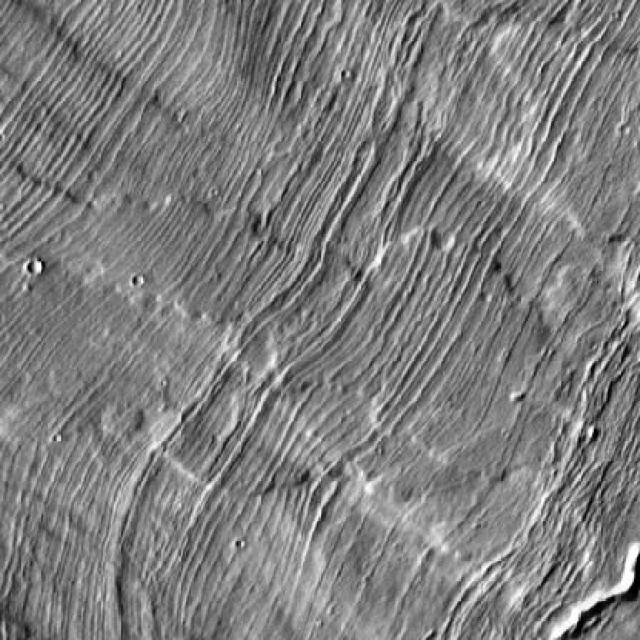crater: (434, 225, 458, 249)
